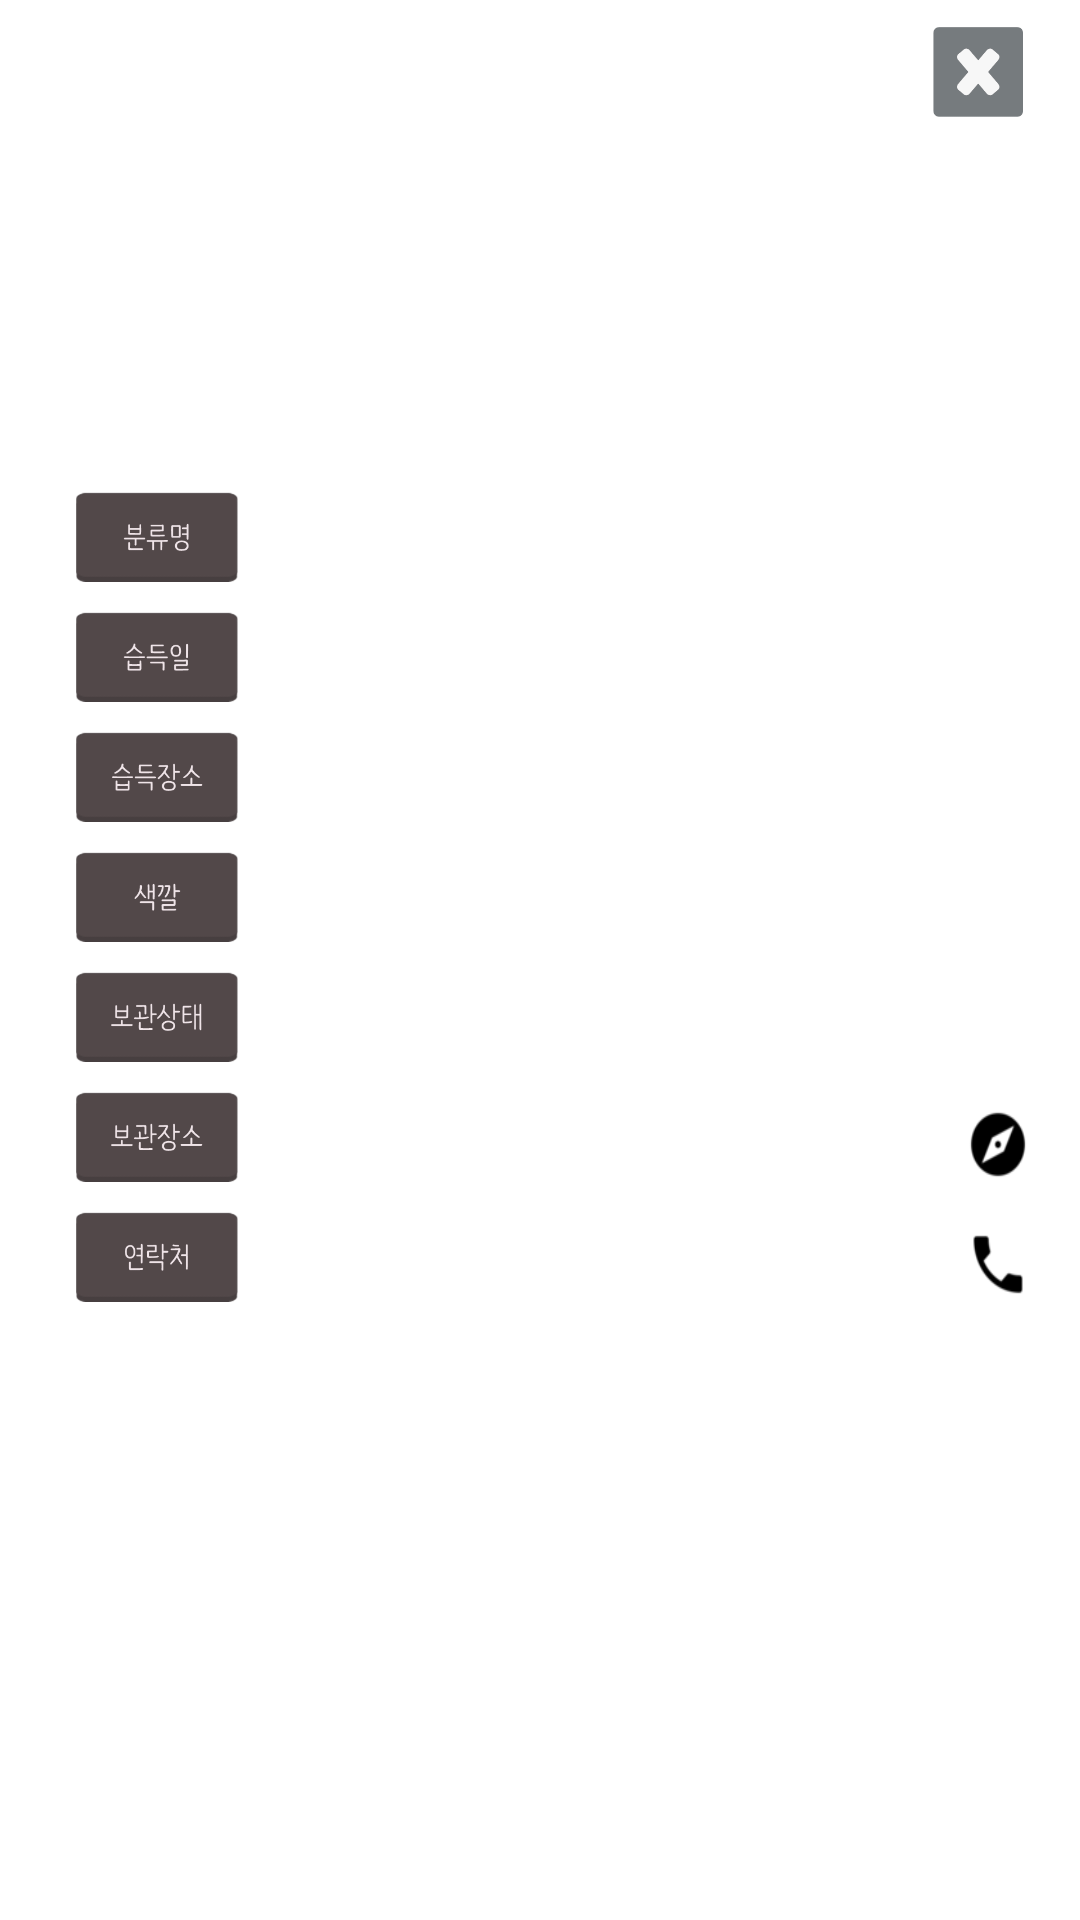

Icon click points for this 1080px x 1920px phone screenshot, format (x,y):
close: (978,72)
map: (998,1144)
phone: (998,1264)
